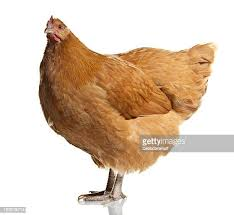buff: (29, 7, 164, 153)
